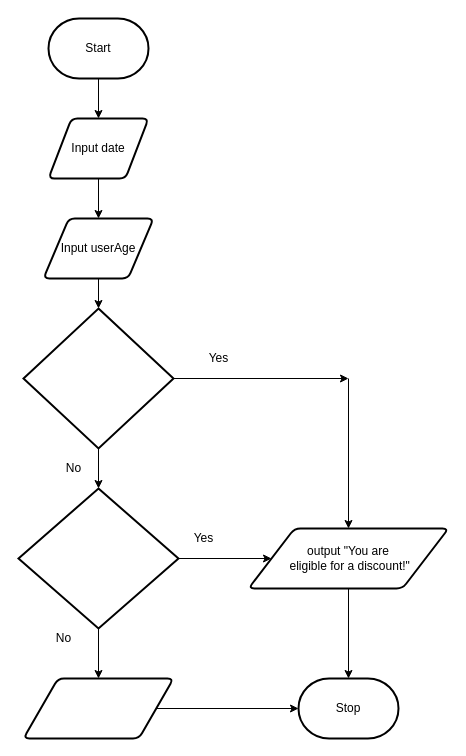
Some shapes in this 466 by 756 pixel diagram are drawn without their labels. Here are the shapes that lost their labels. From the top down, the centre of each, then its label:
(98,378): if date == "Tuesday" || date == "Thursday
(98,558): if userAge > 12 && userAge < 21
(98,708): output "You are not eligible for a discount"
